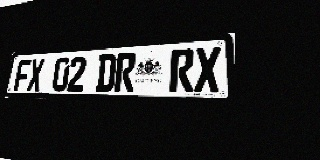0: (51, 57, 71, 91)
2: (67, 56, 87, 92)
D: (95, 54, 117, 92)
F: (14, 59, 31, 91)
R: (169, 48, 194, 92), (114, 52, 137, 92)
X: (194, 47, 221, 92), (27, 58, 45, 91)
